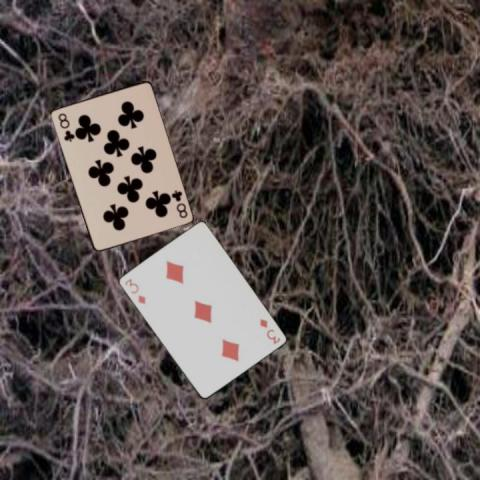3d: (121, 276, 147, 306), (257, 316, 281, 346)
8c: (168, 188, 189, 220), (54, 110, 74, 143)
